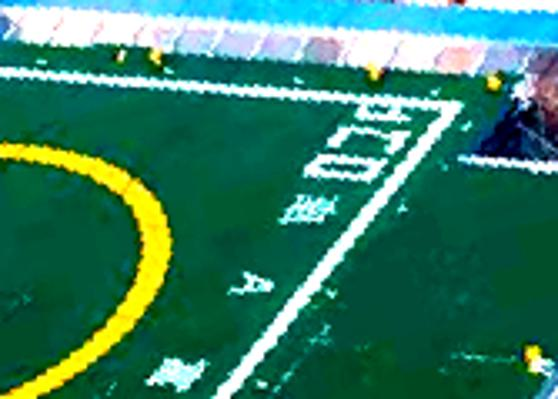Apron: (1, 107, 189, 396)
